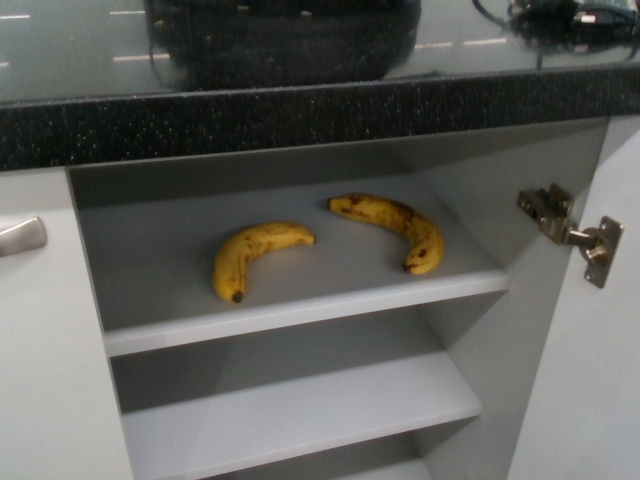banana: (327, 193, 445, 278), (212, 218, 312, 305)
